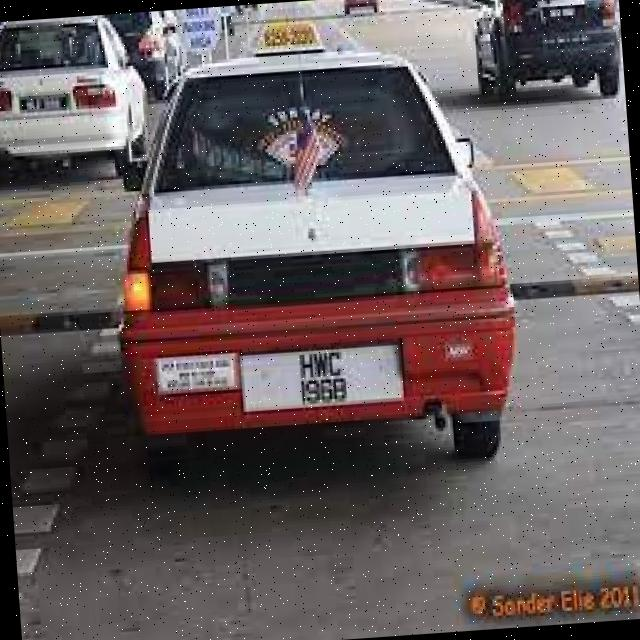License_Plate: (239, 342, 405, 413), (22, 93, 71, 114), (540, 4, 583, 25)
car: (88, 3, 537, 497)
